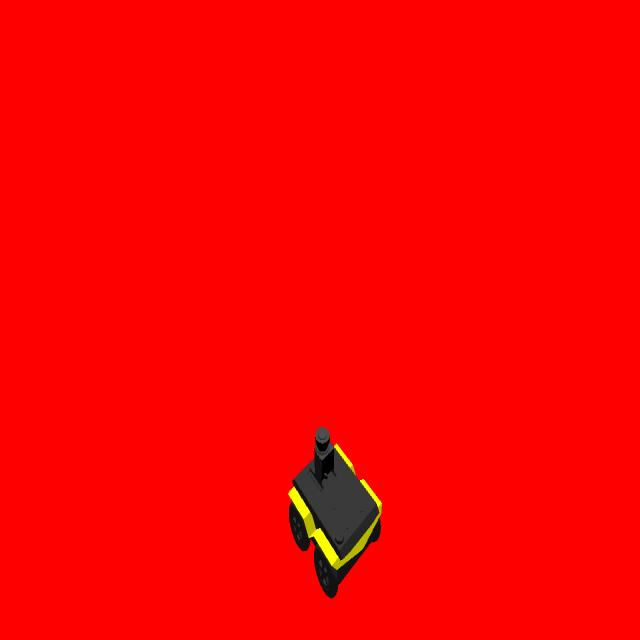jackal: (286, 420, 384, 603)
